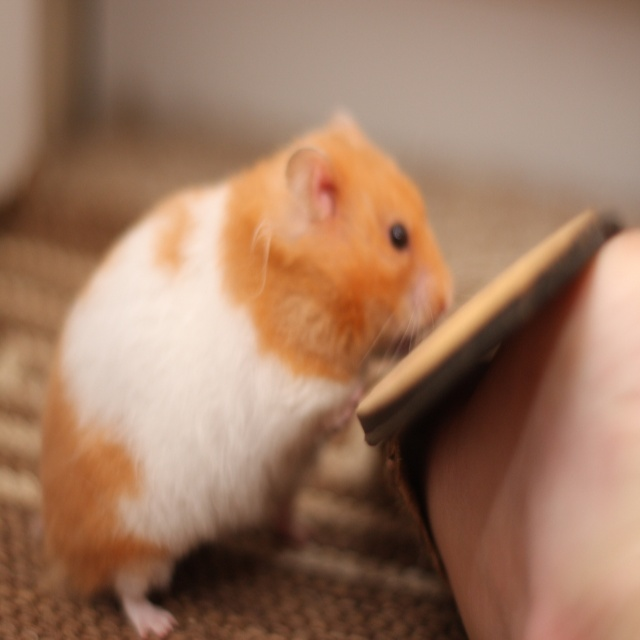Mouse: (36, 110, 471, 639)
